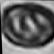correct: (0, 4, 54, 48)
